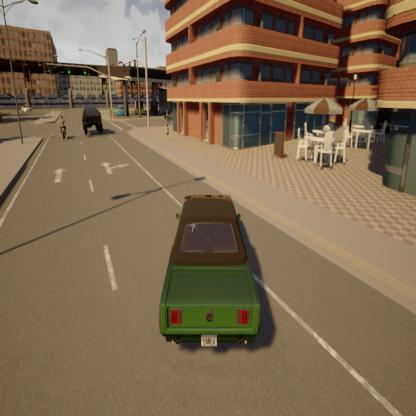Cars: (160, 192, 260, 350), (82, 105, 103, 134), (57, 115, 68, 141), (134, 98, 144, 117), (116, 100, 126, 118), (20, 102, 30, 118)
Pedestrian: (165, 122, 170, 134)
